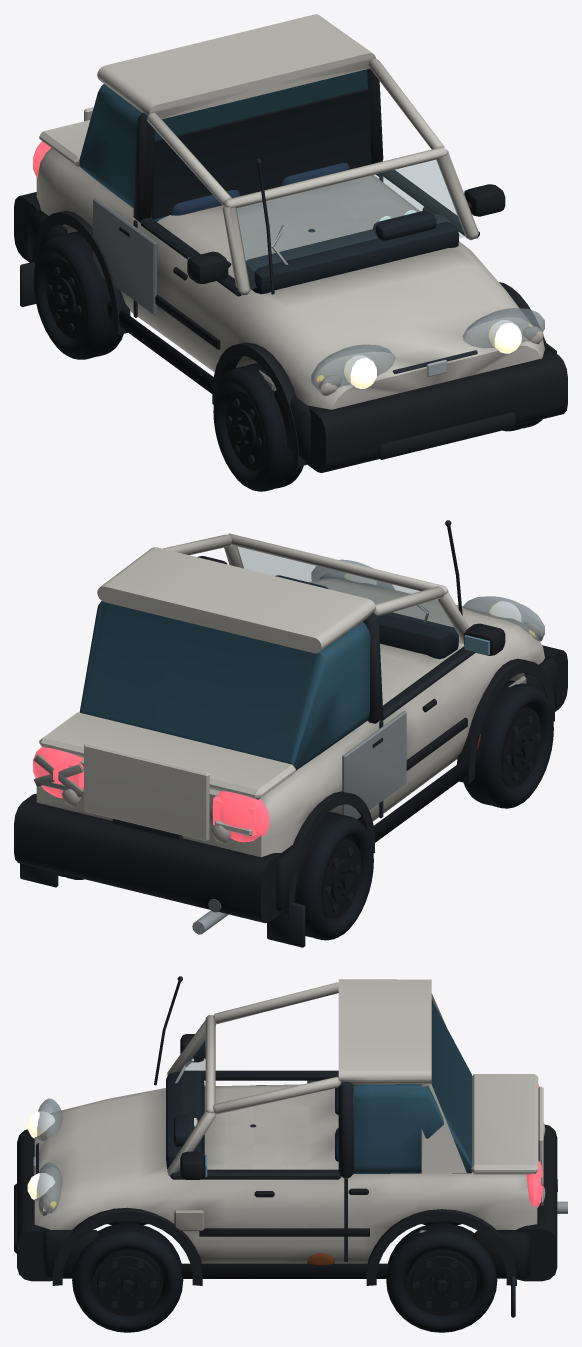
Rendered from el-tiburon.glb.
3 views of the same model, one above another, from view 1: azimuth 30°, elevation 25°; view 2: azimuth 150°, elevation 25°; view 3: azimuth 270°, elevation 25° (orthographic). The views are drawn at different scales.
Visible parts, largest first — view 1: el-tiburon-hull, el-tiburon-detail-yaris-defensas, el-tiburon-roof, el-tiburon-bulkhead, el-tiburon-windscreen, el-tiburon-greenhouse-glass, el-tiburon-windscreen-frame, el-tiburon-dashboard, el-tiburon-tire-rear-right.006, el-tiburon-tire-front-right.006, el-tiburon-wheel-lips, el-tiburon-primer (+13 smaller); view 2: el-tiburon-greenhouse-glass, el-tiburon-detail-yaris-defensas, el-tiburon-hull, el-tiburon-roof, el-tiburon-detail-yaris-tapa, el-tiburon-pillars, el-tiburon-tire-front-right.006, el-tiburon-tire-rear-right.006, el-tiburon-windscreen-frame, el-tiburon-wheel-lips, el-tiburon-windscreen, el-tiburon-primer (+14 smaller); view 3: el-tiburon-hull, el-tiburon-detail-yaris-defensas, el-tiburon-greenhouse-glass, el-tiburon-roof, el-tiburon-pillars, el-tiburon-tire-rear-left.006, el-tiburon-tire-front-left.006, el-tiburon-windscreen-frame, el-tiburon-wheel-lips, el-tiburon-rim-front-left.006, el-tiburon-rim-rear-left.006, el-tiburon-door-top-trim (+11 smaller).
Part boxes in pixels (box(x1,y1,x2,y2)): el-tiburon-hull: box(36, 148, 544, 409); el-tiburon-detail-yaris-defensas: box(14, 192, 567, 472); el-tiburon-roof: box(97, 14, 375, 119); el-tiburon-bulkhead: box(151, 88, 370, 219); el-tiburon-windscreen: box(237, 160, 465, 288); el-tiburon-greenhouse-glass: box(79, 69, 371, 221); el-tiburon-windscreen-frame: box(147, 58, 478, 295); el-tiburon-dashboard: box(245, 214, 459, 294); el-tiburon-tire-rear-right.006: box(33, 231, 123, 359); el-tiburon-tire-front-right.006: box(213, 363, 303, 491); el-tiburon-wheel-lips: box(32, 210, 545, 466); el-tiburon-primer: box(93, 198, 157, 315); el-tiburon-greenhouse-glass: box(79, 601, 370, 770); el-tiburon-detail-yaris-defensas: box(14, 645, 567, 923); el-tiburon-hull: box(36, 577, 544, 857); el-tiburon-roof: box(97, 547, 375, 653); el-tiburon-detail-yaris-tapa: box(84, 743, 209, 841); el-tiburon-pillars: box(39, 712, 295, 799); el-tiburon-tire-front-right.006: box(463, 680, 553, 808); el-tiburon-tire-rear-right.006: box(295, 812, 373, 940); el-tiburon-windscreen-frame: box(163, 533, 469, 643); el-tiburon-wheel-lips: box(281, 658, 554, 915); el-tiburon-windscreen: box(237, 547, 463, 643); el-tiburon-primer: box(342, 711, 406, 819); el-tiburon-hull: box(34, 1084, 537, 1263); el-tiburon-detail-yaris-defensas: box(14, 1124, 557, 1281); el-tiburon-greenhouse-glass: box(353, 1000, 471, 1173); el-tiburon-roof: box(338, 979, 431, 1084); el-tiburon-pillars: box(421, 993, 538, 1174); el-tiburon-tire-rear-left.006: box(386, 1223, 497, 1332); el-tiburon-tire-front-left.006: box(72, 1223, 183, 1332); el-tiburon-windscreen-frame: box(167, 982, 341, 1176); el-tiburon-wheel-lips: box(52, 1207, 516, 1285); el-tiburon-rim-front-left.006: box(92, 1250, 162, 1315); el-tiburon-rim-rear-left.006: box(406, 1250, 476, 1315); el-tiburon-door-top-trim: box(170, 1070, 341, 1179).
Size of the model in its own units: 2.48 by 2.27 by 4.41.
